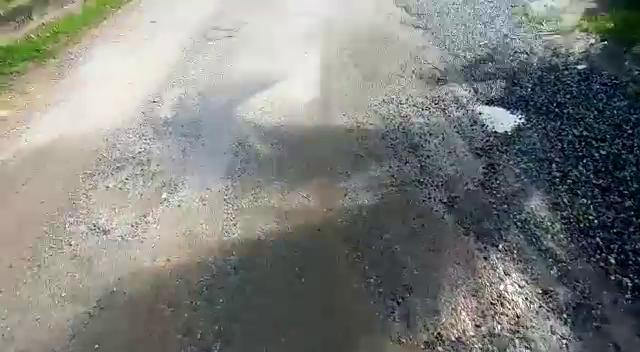pothole: (476, 101, 532, 135)
